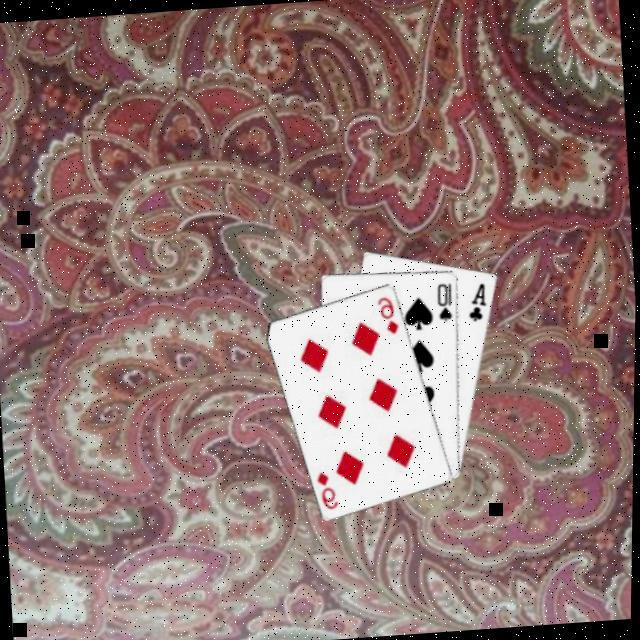10S: (432, 280, 456, 324)
6D: (372, 293, 402, 338), (312, 468, 342, 513)
AC: (462, 280, 490, 324)
